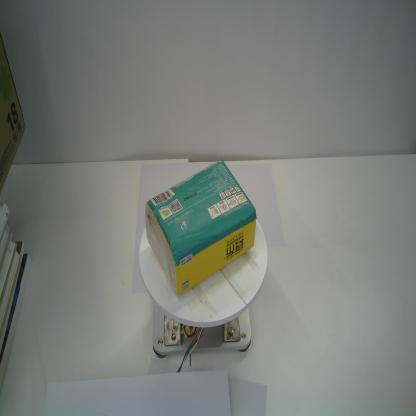Tissue: (145, 158, 256, 298)
